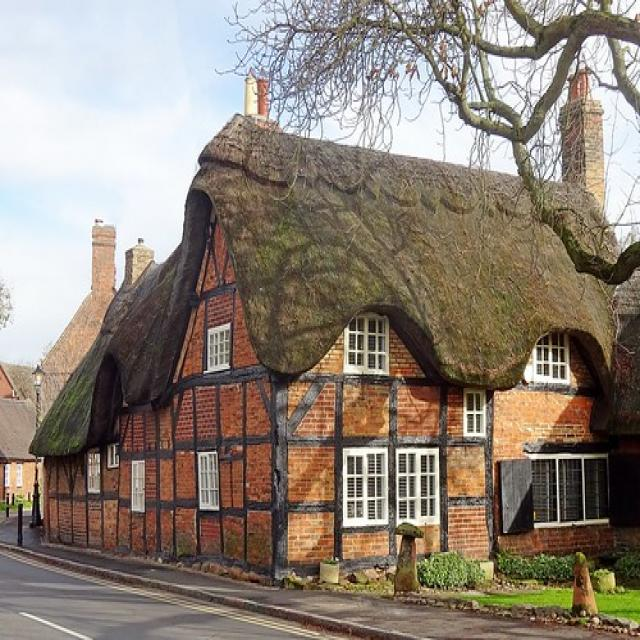Normal_building: (30, 83, 640, 592)
